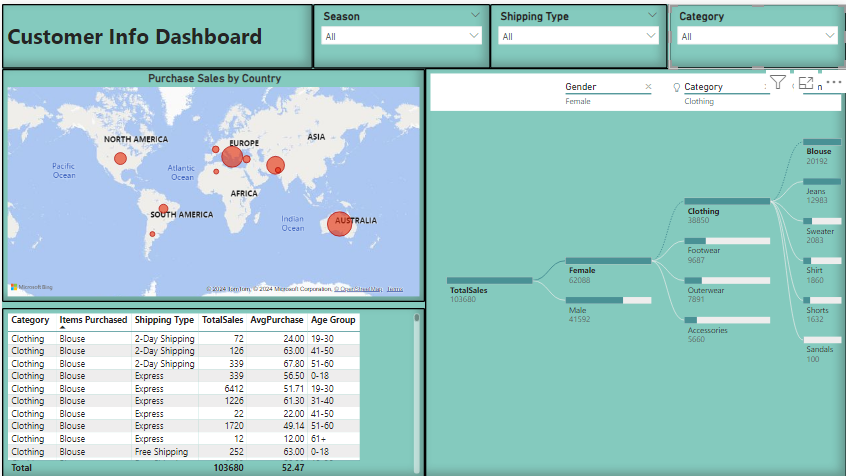

Layout of this report page (visuals, bound fields, positions):
{"tool":"powerbi","page":{"name":"Detail Information","canvas":[1280,720],"ordinal":1},"visuals":[{"type":"slicer","fields":{"Values":["customers_info.Category"]},"box":[1010.6,0,269.3,97.8],"z":1000},{"type":"slicer","fields":{"Values":["customers_info.Shipping Type"]},"box":[739.8,0,269.3,97.8],"z":2000},{"type":"slicer","fields":{"Values":["customers_info.Season"]},"box":[470.6,0,269.3,97.8],"z":3000},{"type":"textbox","box":[0,0,470.6,97.8],"z":11000},{"type":"map","title":"Purchase Sales by Country","fields":{"Category":["customers_info.Country"],"Size":["_Measures.TotalSales"]},"box":[0,97.8,640.6,352.9],"z":11001},{"type":"tableEx","fields":{"Values":["customers_info.Category","customers_info.Items Purchased","customers_info.Shipping Type","_Measures.TotalSales","_Measures.AvgPurchase","customers_info.Age Group"]},"box":[0,461,641,259],"z":11002},{"type":"decompositionTreeVisual","fields":{"Analyze":["_Measures.TotalSales"],"ExplainBy":["customers_info.Gender","customers_info.Category","customers_info.Items Purchased","customers_info.Shipping Type"]},"box":[640.9,97.4,639.1,622.1],"z":11003}]}

Visuals, with their boxes in screenshot pixels (x1, y1, x2, y2), scaled from the page's 1280x720 canvas onto the 846x476 screenshot:
slicer - customers_info.Category: (668, 0, 845, 65)
slicer - customers_info.Shipping Type: (489, 0, 667, 65)
slicer - customers_info.Season: (311, 0, 489, 65)
textbox: (0, 0, 311, 65)
"Purchase Sales by Country" map: (0, 65, 423, 298)
tableEx - customers_info.Category x customers_info.Items Purchased: (0, 305, 424, 475)
decompositionTreeVisual - _Measures.TotalSales x customers_info.Gender: (424, 64, 845, 475)
